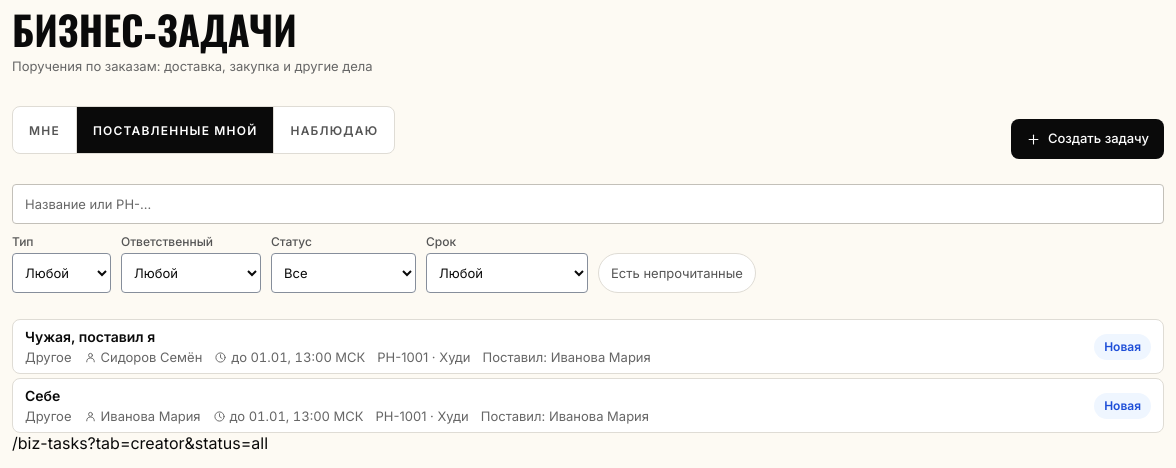
Test: BizTasksScreen › ответственный — фильтром во вкладке «Поставленные мной»
Expected: the link "Чужая, поставил я" is shown, [12,319,1164,374]
Select "Сидоров Семён" in the dropdown labelled "Ответственный" at (191,273), box [121,253,261,293]
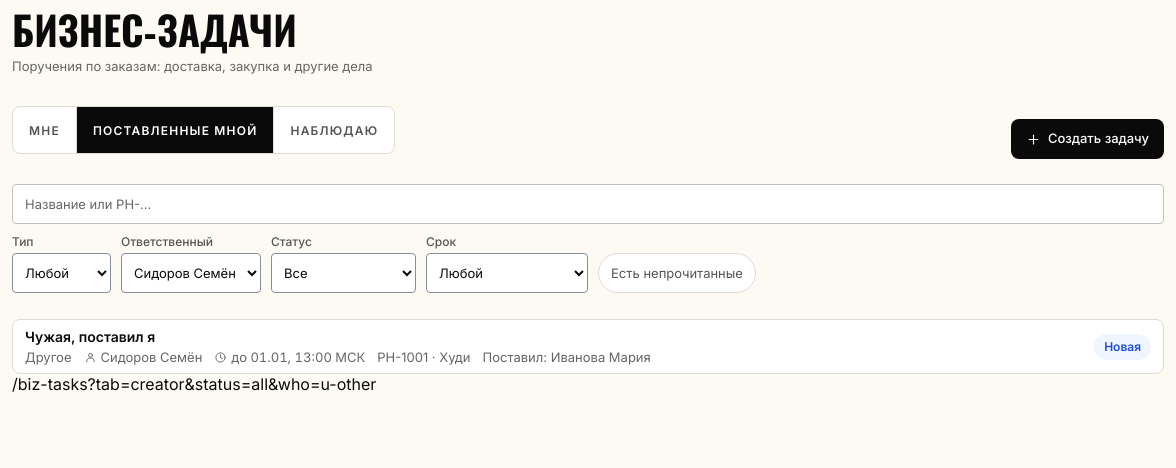
Expected: the link "Чужая, поставил я" is shown, [12,319,1164,374]
Result: the text with test id "where" shows "who=u-other" at [12,374,376,394]
